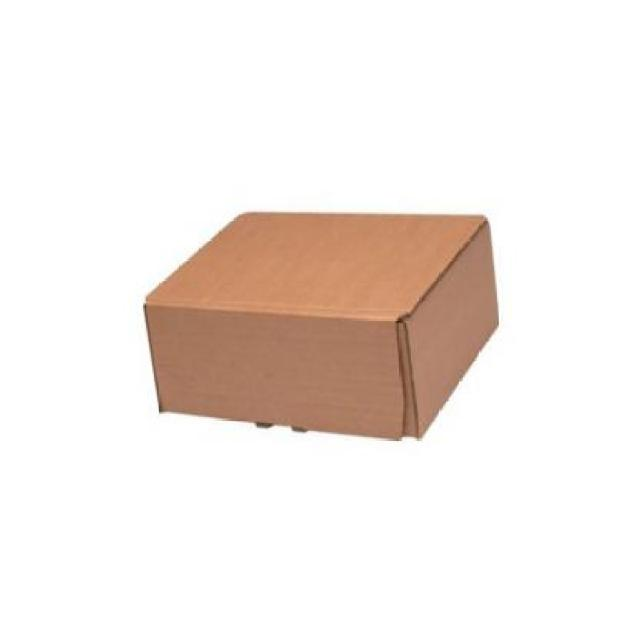cardboxes: (143, 216, 499, 438)
